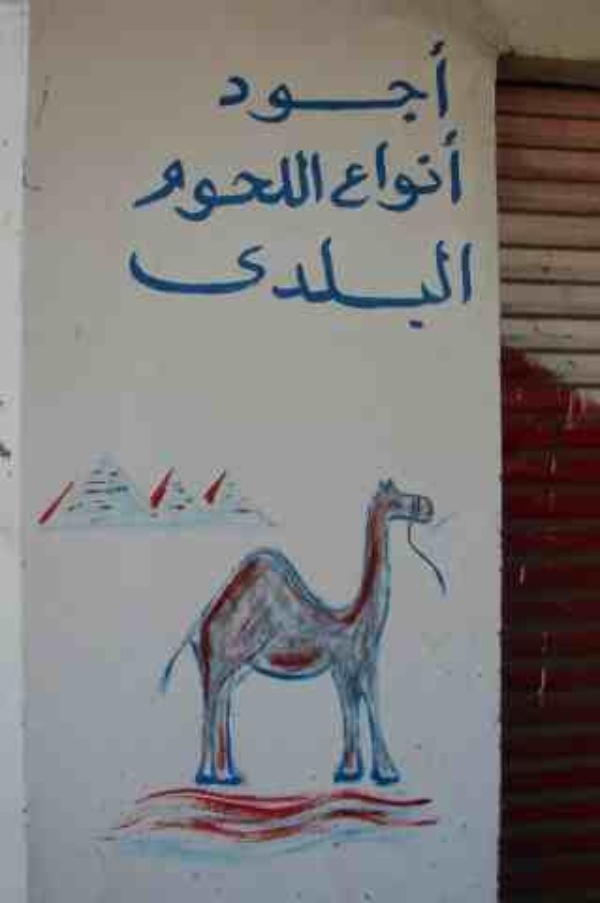text: (129, 236, 144, 337), (145, 236, 160, 337), (161, 236, 176, 337), (177, 236, 192, 337), (193, 236, 208, 337), (209, 236, 224, 337), (225, 236, 240, 337), (241, 236, 256, 337), (257, 236, 272, 337), (273, 236, 288, 337), (289, 236, 304, 337), (305, 236, 320, 337), (321, 236, 336, 337), (337, 236, 352, 337), (353, 236, 368, 337), (369, 236, 384, 337), (385, 236, 400, 337), (401, 236, 416, 337), (417, 236, 432, 337), (433, 236, 448, 337), (449, 236, 464, 337), (225, 40, 240, 125), (241, 40, 256, 125), (257, 40, 272, 125), (273, 40, 288, 125), (289, 40, 304, 125), (305, 40, 320, 125), (321, 40, 336, 125), (337, 40, 352, 125), (353, 40, 368, 125), (369, 40, 384, 125), (385, 40, 400, 125), (401, 40, 416, 125), (417, 40, 432, 125), (433, 40, 448, 125), (337, 128, 352, 213), (353, 128, 368, 213), (369, 128, 384, 213), (385, 128, 400, 213), (401, 128, 416, 213), (417, 128, 432, 213), (433, 128, 448, 213), (129, 143, 144, 226), (145, 143, 160, 226), (161, 143, 176, 226), (177, 143, 192, 226), (193, 143, 208, 226), (209, 143, 224, 226), (225, 143, 240, 226), (241, 143, 256, 226), (257, 143, 272, 226), (273, 143, 288, 226), (289, 143, 304, 226), (305, 143, 320, 226), (449, 128, 461, 213), (465, 236, 473, 337), (328, 128, 336, 213), (219, 40, 224, 125), (321, 143, 326, 226), (449, 40, 450, 125)
